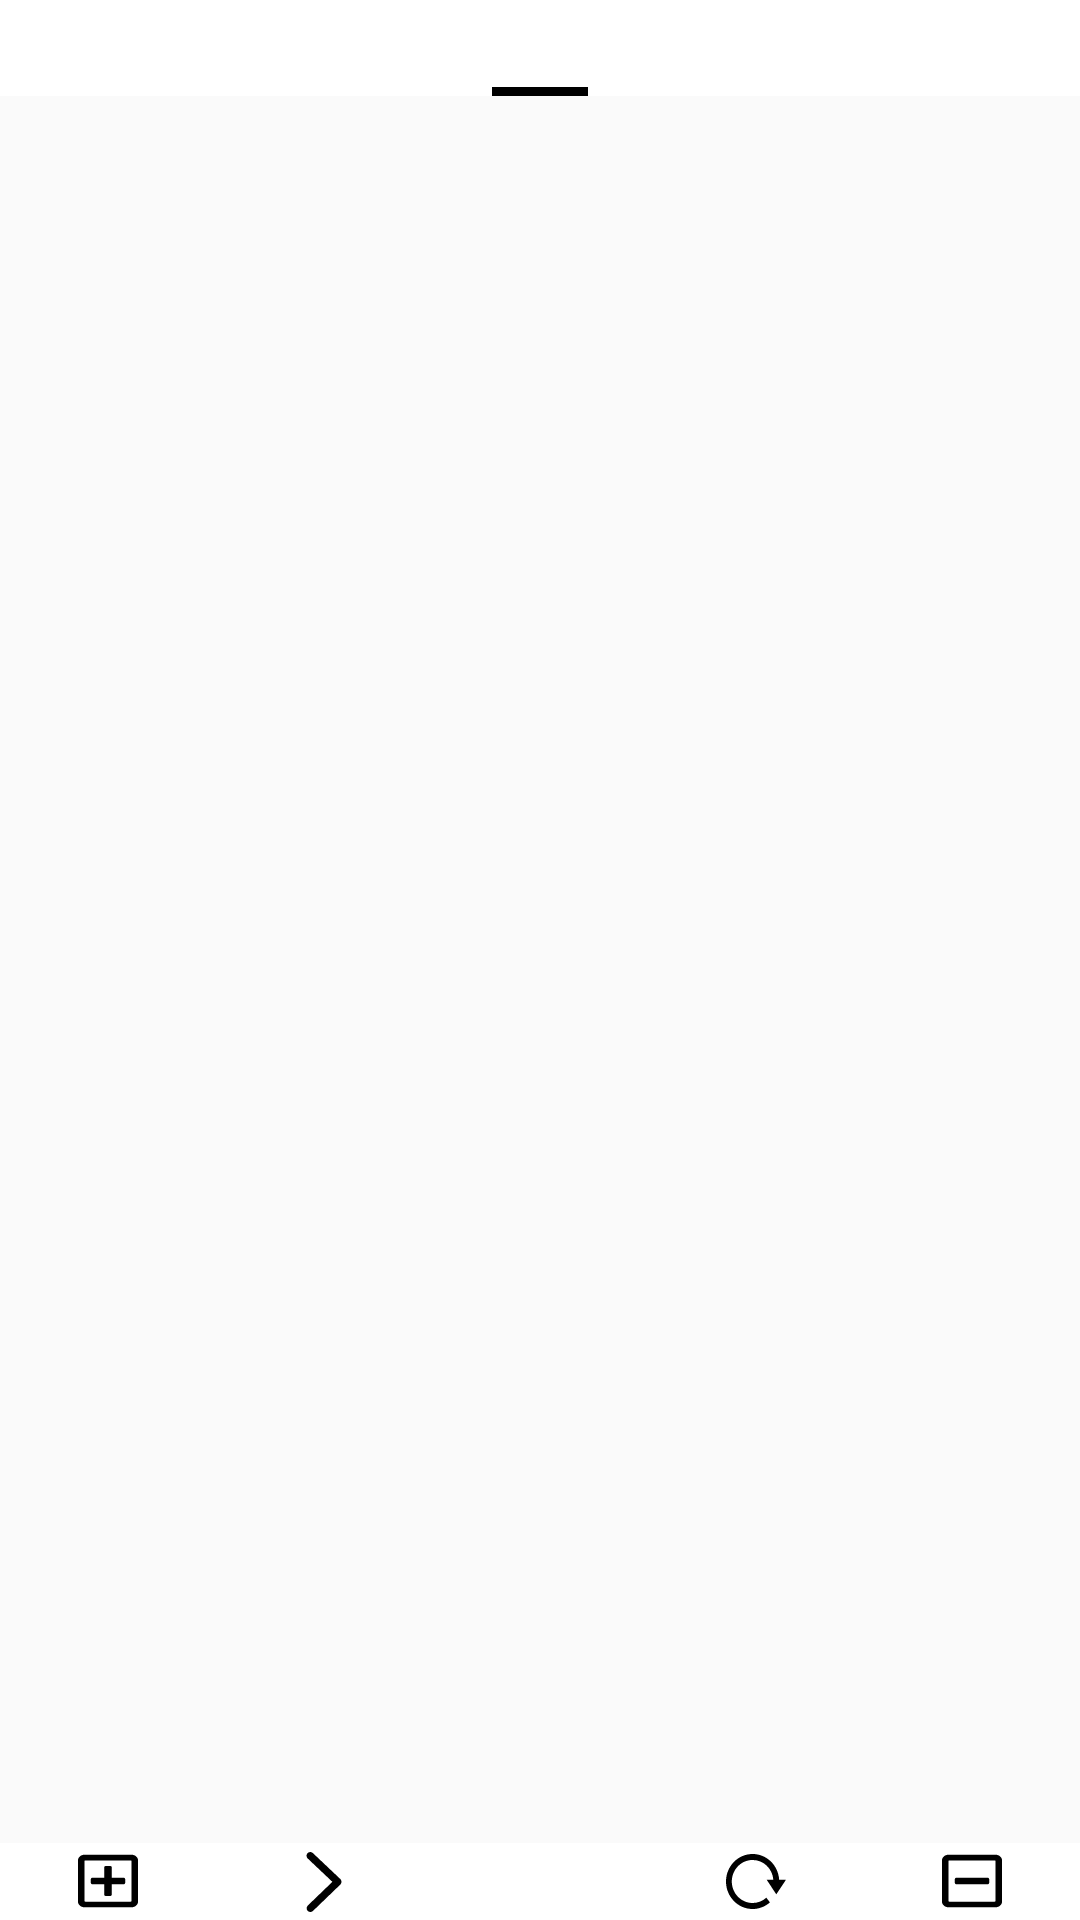

Screen size 1080px x 1920px. Icon name, then its box in pixels as (x1, y1, x2, y2):
web plus square: (78, 1854, 138, 1908)
删除页卡: (942, 1854, 1002, 1908)
刷新: (726, 1854, 786, 1909)
前进: (306, 1852, 342, 1912)
